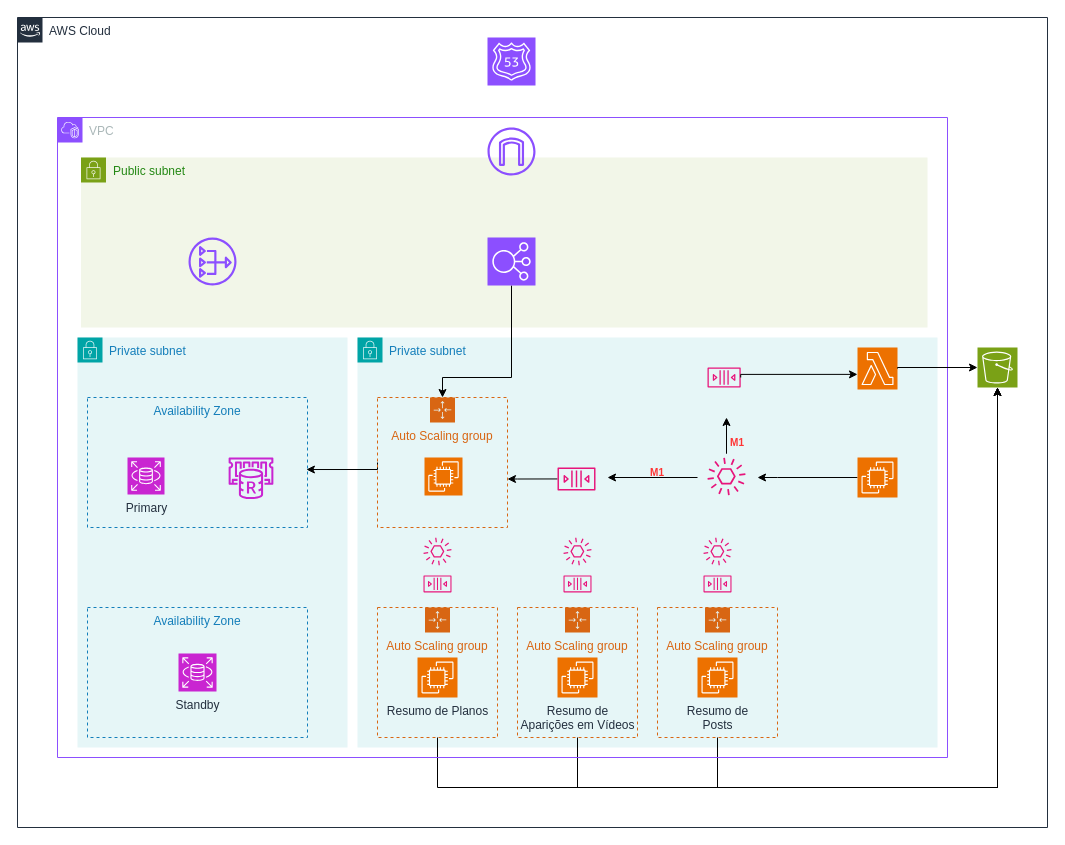
The diagram is 1065 pixels wide and 845 high, and some of its shapes have lost their labels. Each missing label, with the centre of its shape:
ElastiCache: the point at 250,478
Evento: Informação Coletada: the point at 726,476
Fila Informação Backend: the point at 576,478
Fila Informação Lambda: the point at 723,377
Guardar no Storage: the point at 877,368
Serviço de Integração com Terceiros: the point at 877,477
